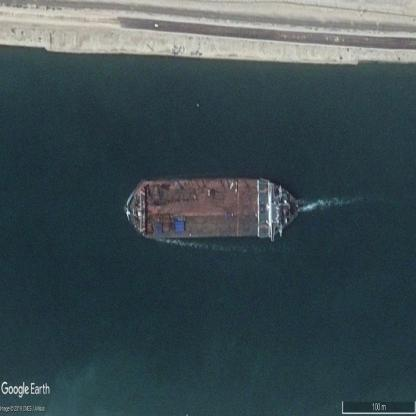ship: (127, 178, 299, 239)
